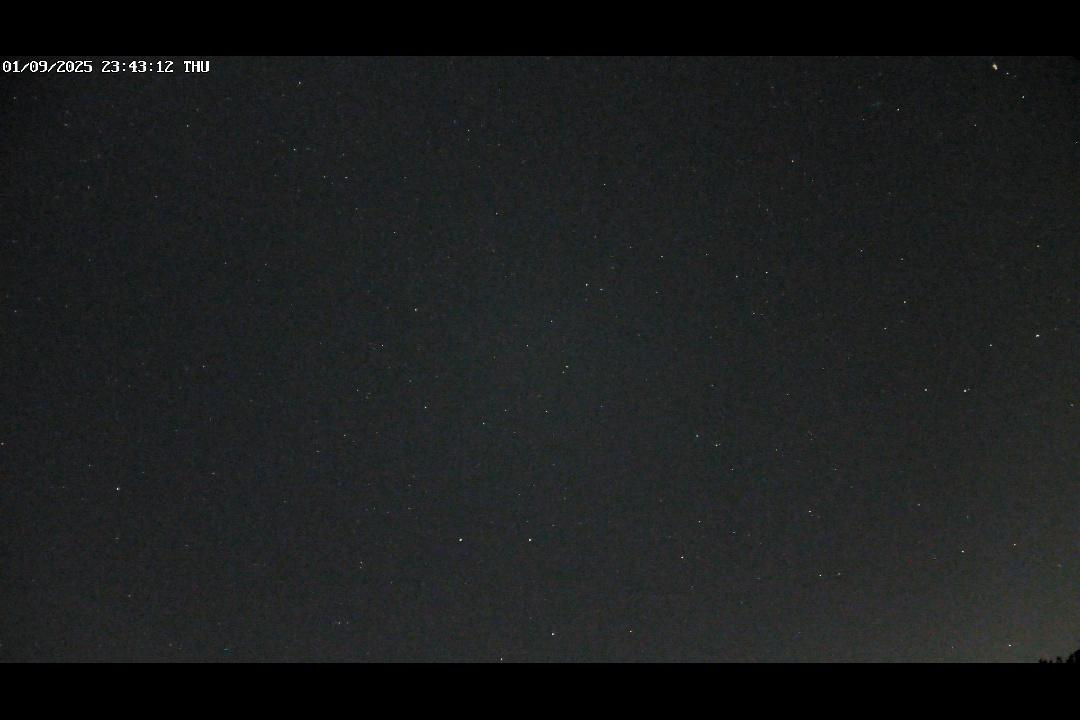Plane: (986, 57, 1002, 77)
